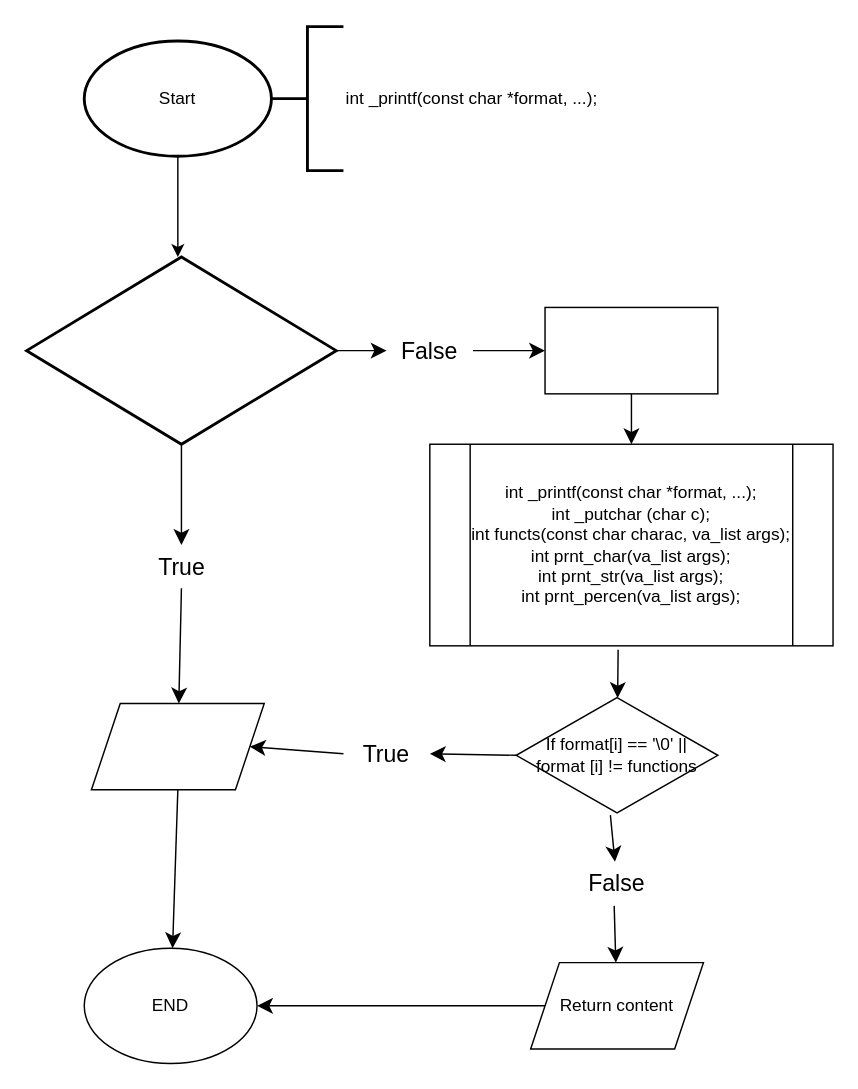
The diagram is 858 pixels wide and 1089 high, and some of its shapes have lost their labels. The centre of each missing label's shape, as x and y in pixels:
"Checks the symbol next to the percent and compares to functions" goes at (631,350).
"If format == NULL || format [i] = =% && format [i + 1] == '\0'" goes at (180,350).
"Return (-1)" goes at (177,746).
